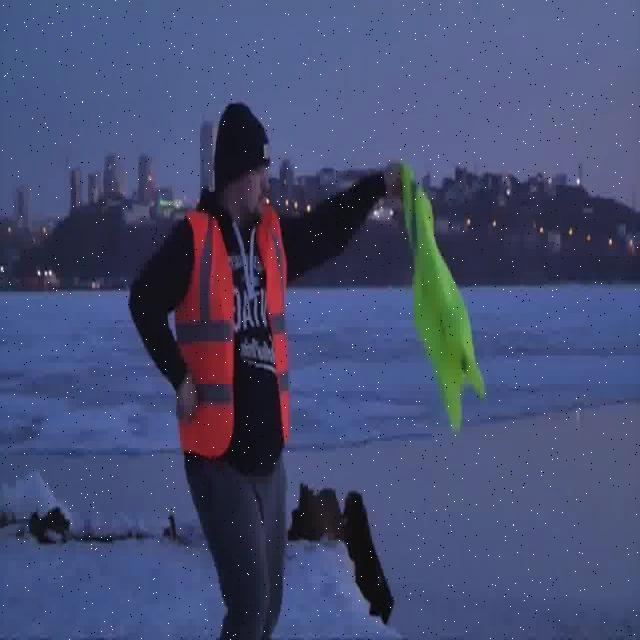Person: (127, 103, 402, 640)
Vest: (169, 198, 285, 458)
